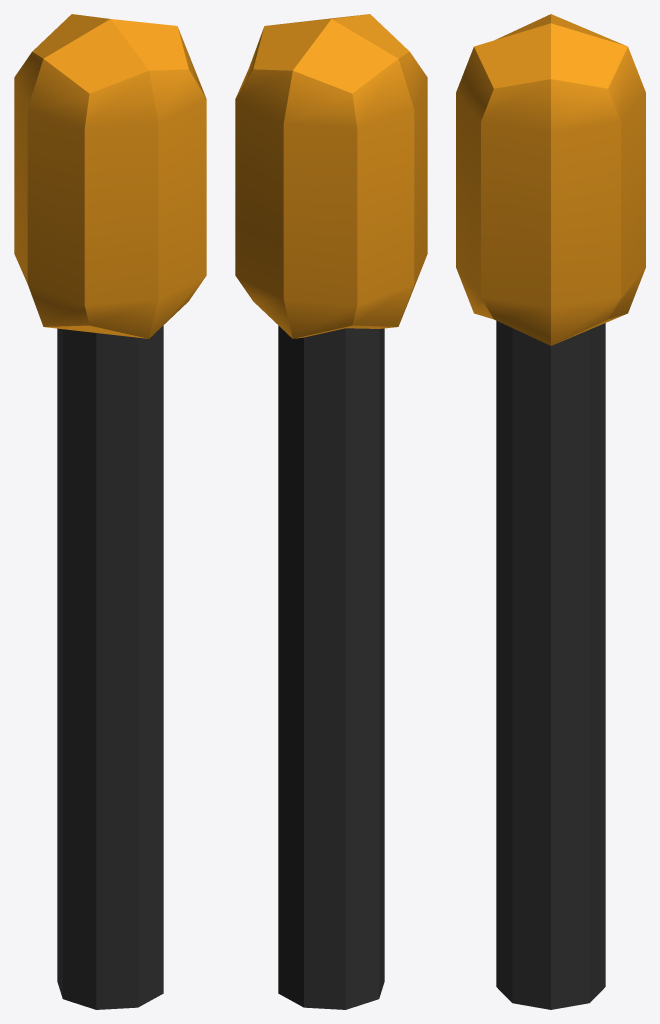
File: Palanca03.fbx
3 views of the same model, side by side, from view 1: azimuth 30°, elevation 25°; view 2: azimuth 150°, elevation 25°; view 3: azimuth 270°, elevation 25° (orthographic).
Parts seen in each view (by area): view 1: Palanca03; view 2: Palanca03; view 3: Palanca03.
Boxes of the visible parts, x1,y1,x2,y2 form: Palanca03: (14, 14, 206, 1009); Palanca03: (235, 14, 427, 1009); Palanca03: (456, 14, 645, 1009).
Bounding box in the file's own units: 0.0574 × 0.3213 × 0.0574.
